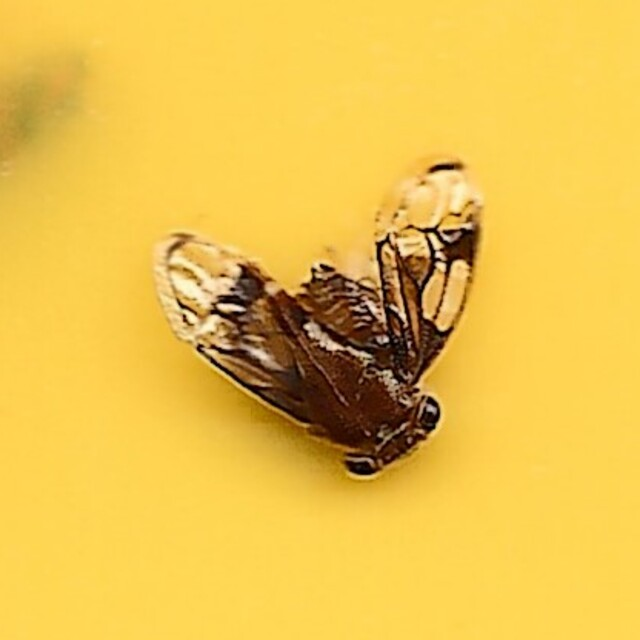Hemiptera: (154, 157, 486, 483)
